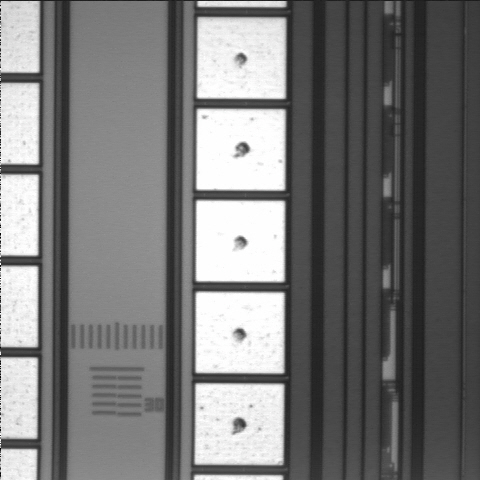pad: (197, 17, 286, 99), (196, 109, 285, 191), (196, 200, 285, 282), (195, 383, 284, 465), (196, 292, 284, 373)
